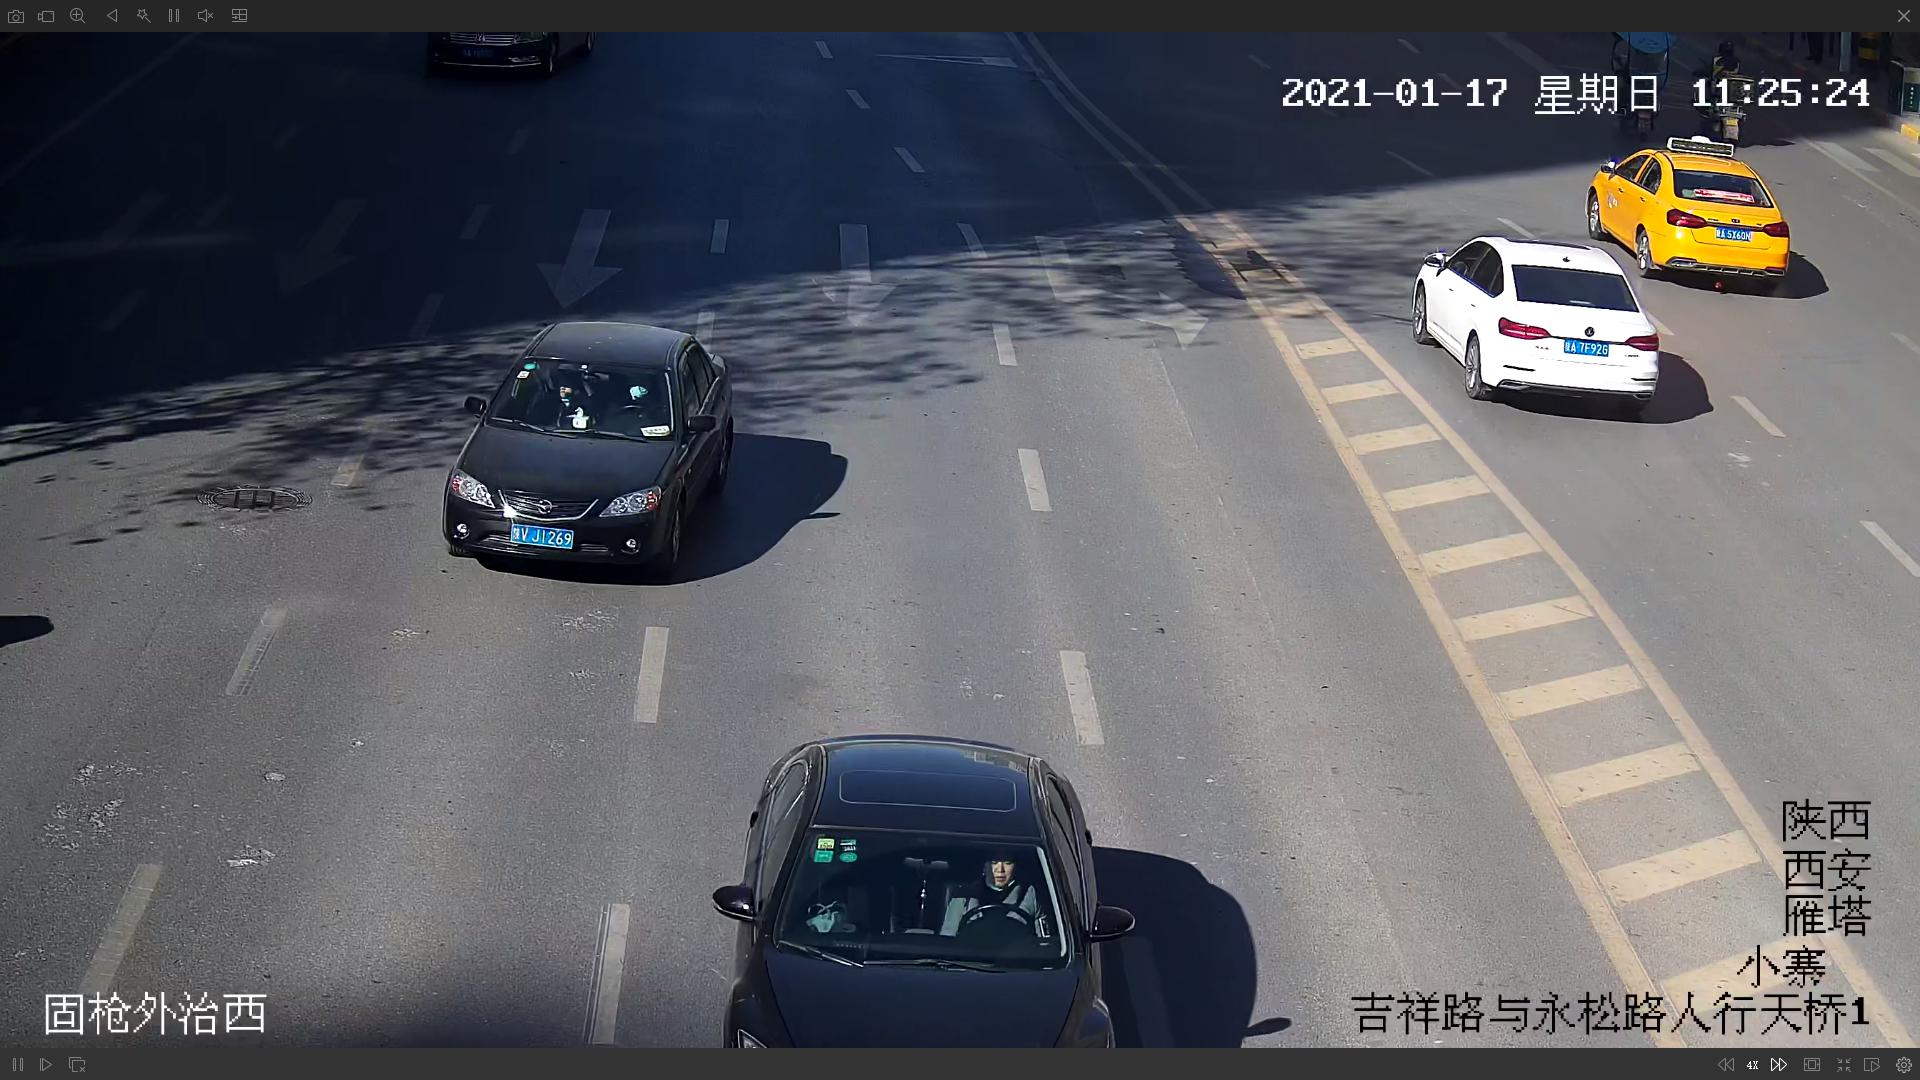black: (717, 737, 1141, 1040), (433, 324, 731, 568)
white: (1393, 229, 1668, 407)
